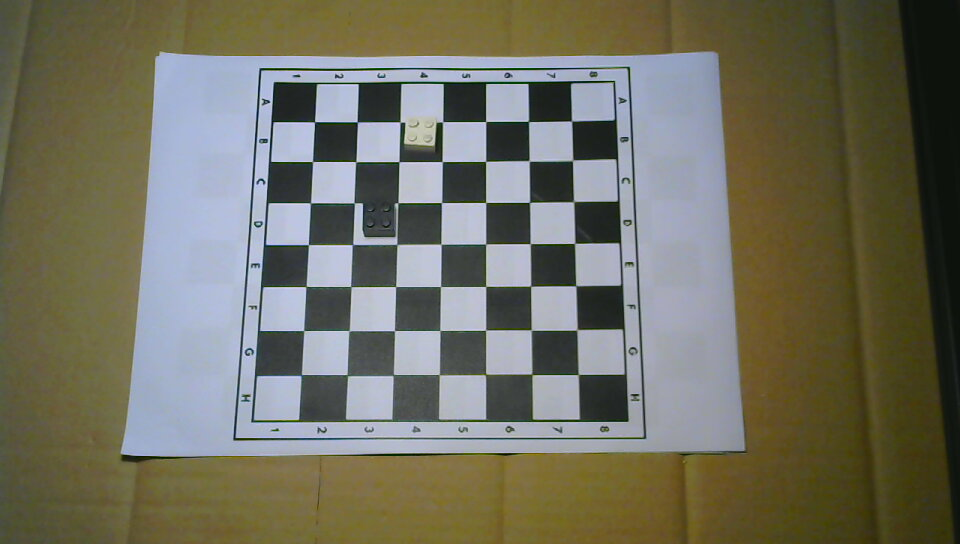bp: (359, 199, 398, 238)
wp: (402, 115, 438, 154)
